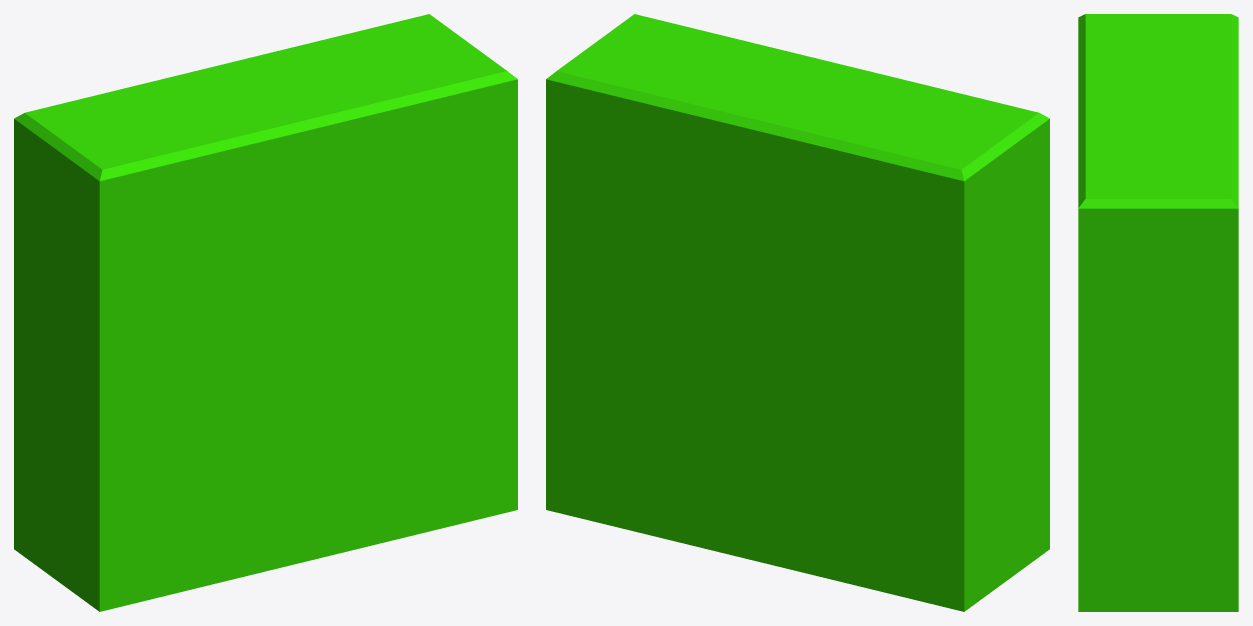
The model's file is basic_3x3.fbx.
3 renders of one model, left to right at view 1: azimuth 30°, elevation 25°; view 2: azimuth 150°, elevation 25°; view 3: azimuth 270°, elevation 25°, orthographic. The views are drawn at different scales.
Parts seen in each view (by area): view 1: basic_3x3; view 2: basic_3x3; view 3: basic_3x3.
Part boxes in pixels (bbox=[...]): basic_3x3: bbox=[14, 14, 517, 611]; basic_3x3: bbox=[546, 14, 1049, 611]; basic_3x3: bbox=[1078, 14, 1238, 611].
Bounding box in the file's own units: 310 × 310 × 110.
